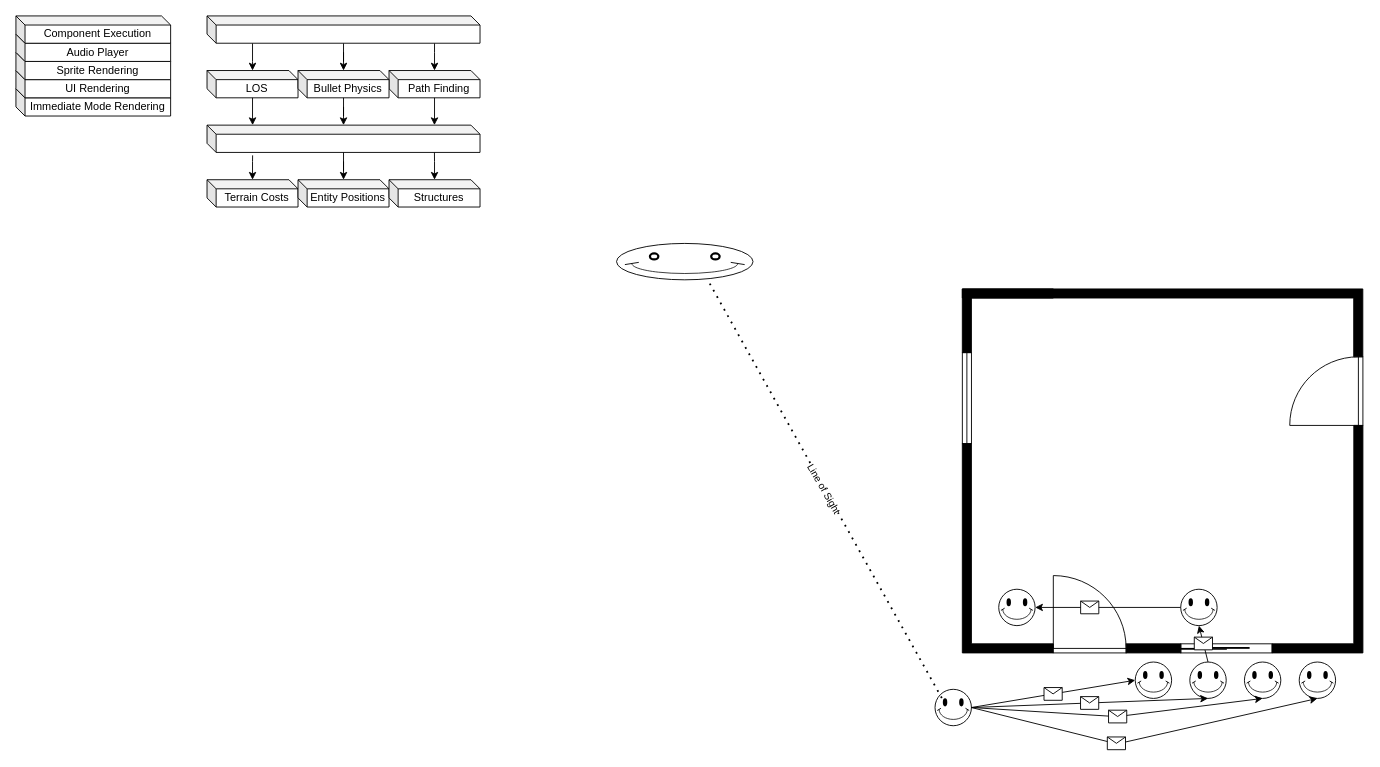
Image size: 1380x767. Some labels were removed from this diagram. The shapes that lost their labels are listed below. From the top down, each one's centre as x and y in pixels, then its label:
At pixel 343 29: "Military Entity".
At pixel 343 138: "Quad Tree".
At pixel 684 261: "enemy".
